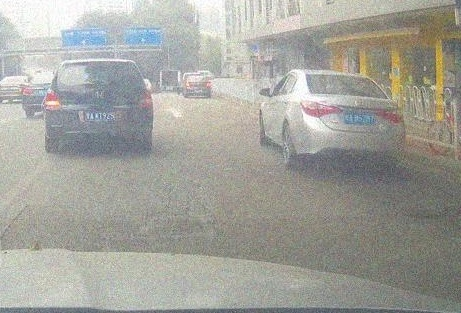L_light: (300, 100, 343, 117), (44, 89, 61, 110)
R_light: (377, 109, 404, 122), (139, 91, 153, 108)
T_light: (92, 61, 106, 65), (335, 74, 349, 78)
day-left: (44, 58, 153, 152)
day-no: (300, 69, 405, 167)
